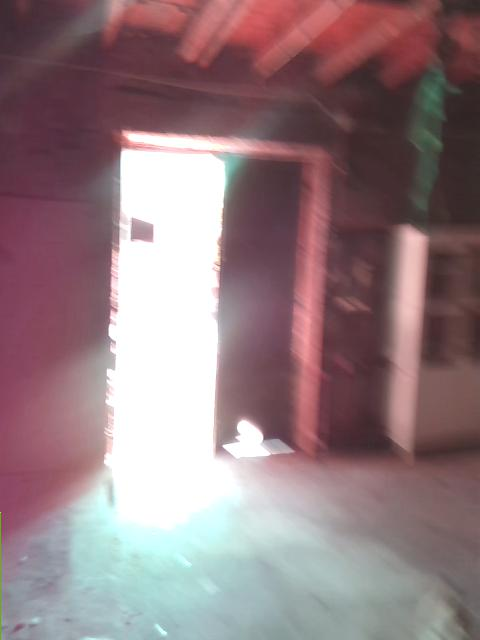open_door: (104, 122, 225, 466)
